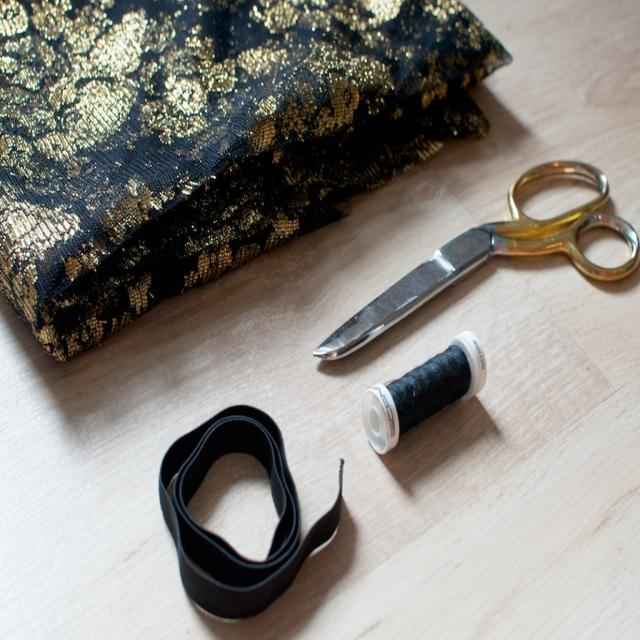scissors: (312, 158, 639, 362)
